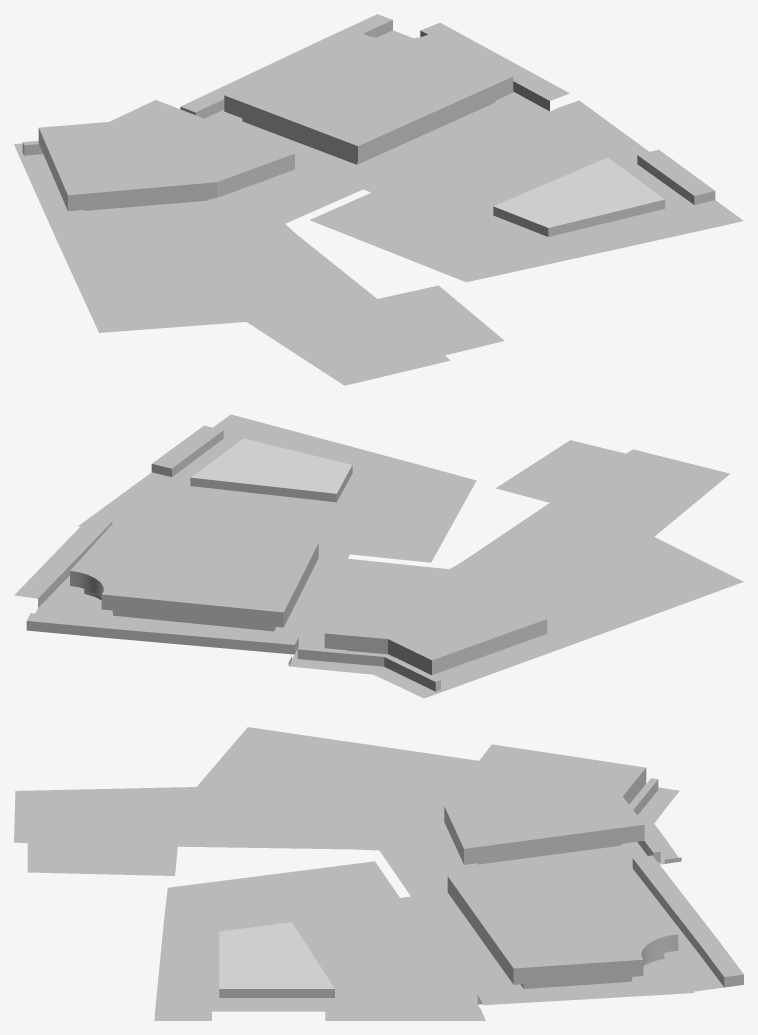
The model's file is TopWall 1.fbx.
3 renders of one model, top to bottom at view 1: azimuth 30°, elevation 25°; view 2: azimuth 150°, elevation 25°; view 3: azimuth 270°, elevation 25°, orthographic. The views are drawn at different scales.
Parts seen in each view (by area): view 1: TopWall; view 2: TopWall; view 3: TopWall.
Part boxes in pixels (box(x1,y1,x2,y2)): TopWall: box(14, 14, 743, 385); TopWall: box(14, 414, 743, 698); TopWall: box(14, 727, 743, 1020).
Size of the model in its own units: 1001 by 42.92 by 1051.
